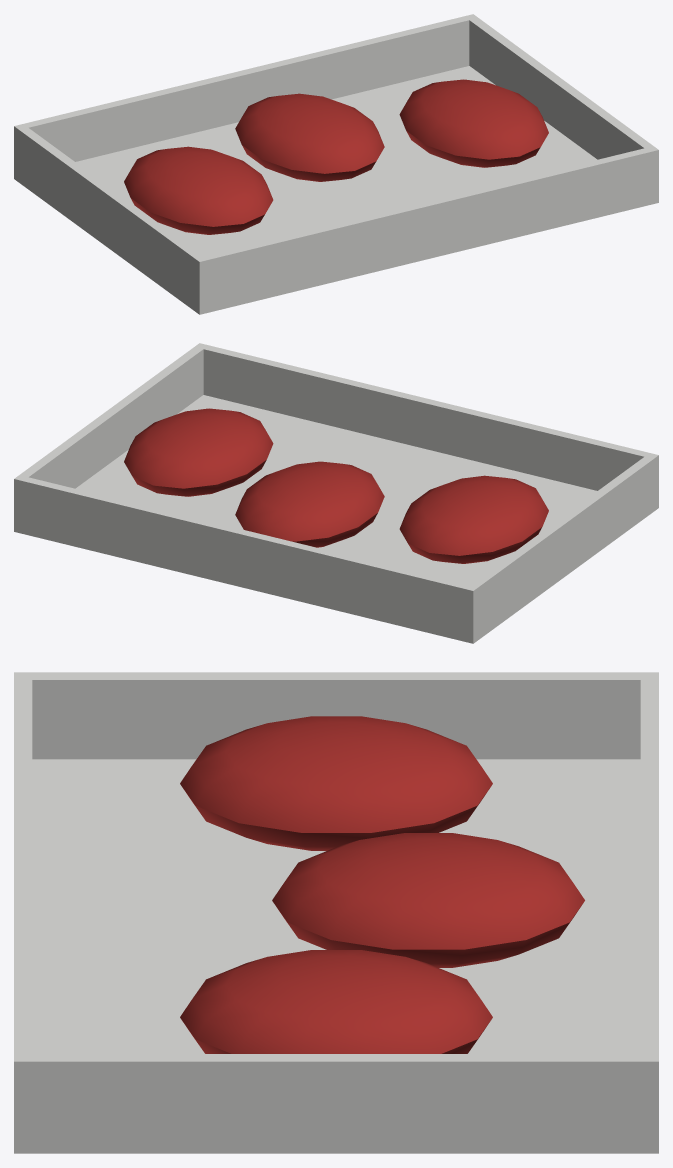
The model's file is Lamb.fbx.
The picture shows the model from 3 angles, top to bottom: view 1: azimuth 30°, elevation 25°; view 2: azimuth 150°, elevation 25°; view 3: azimuth 270°, elevation 25°; orthographic projection. The views are drawn at different scales.
Parts seen in each view (by area): view 1: Lamb; view 2: Lamb; view 3: Lamb.
Boxes of the visible parts, left/top/right/bottom form: Lamb: left=14, top=14, right=658, bottom=314; Lamb: left=14, top=343, right=658, bottom=643; Lamb: left=14, top=672, right=658, bottom=1153.
Bounding box in the file's own units: 0.2 × 0.025 × 0.14.
